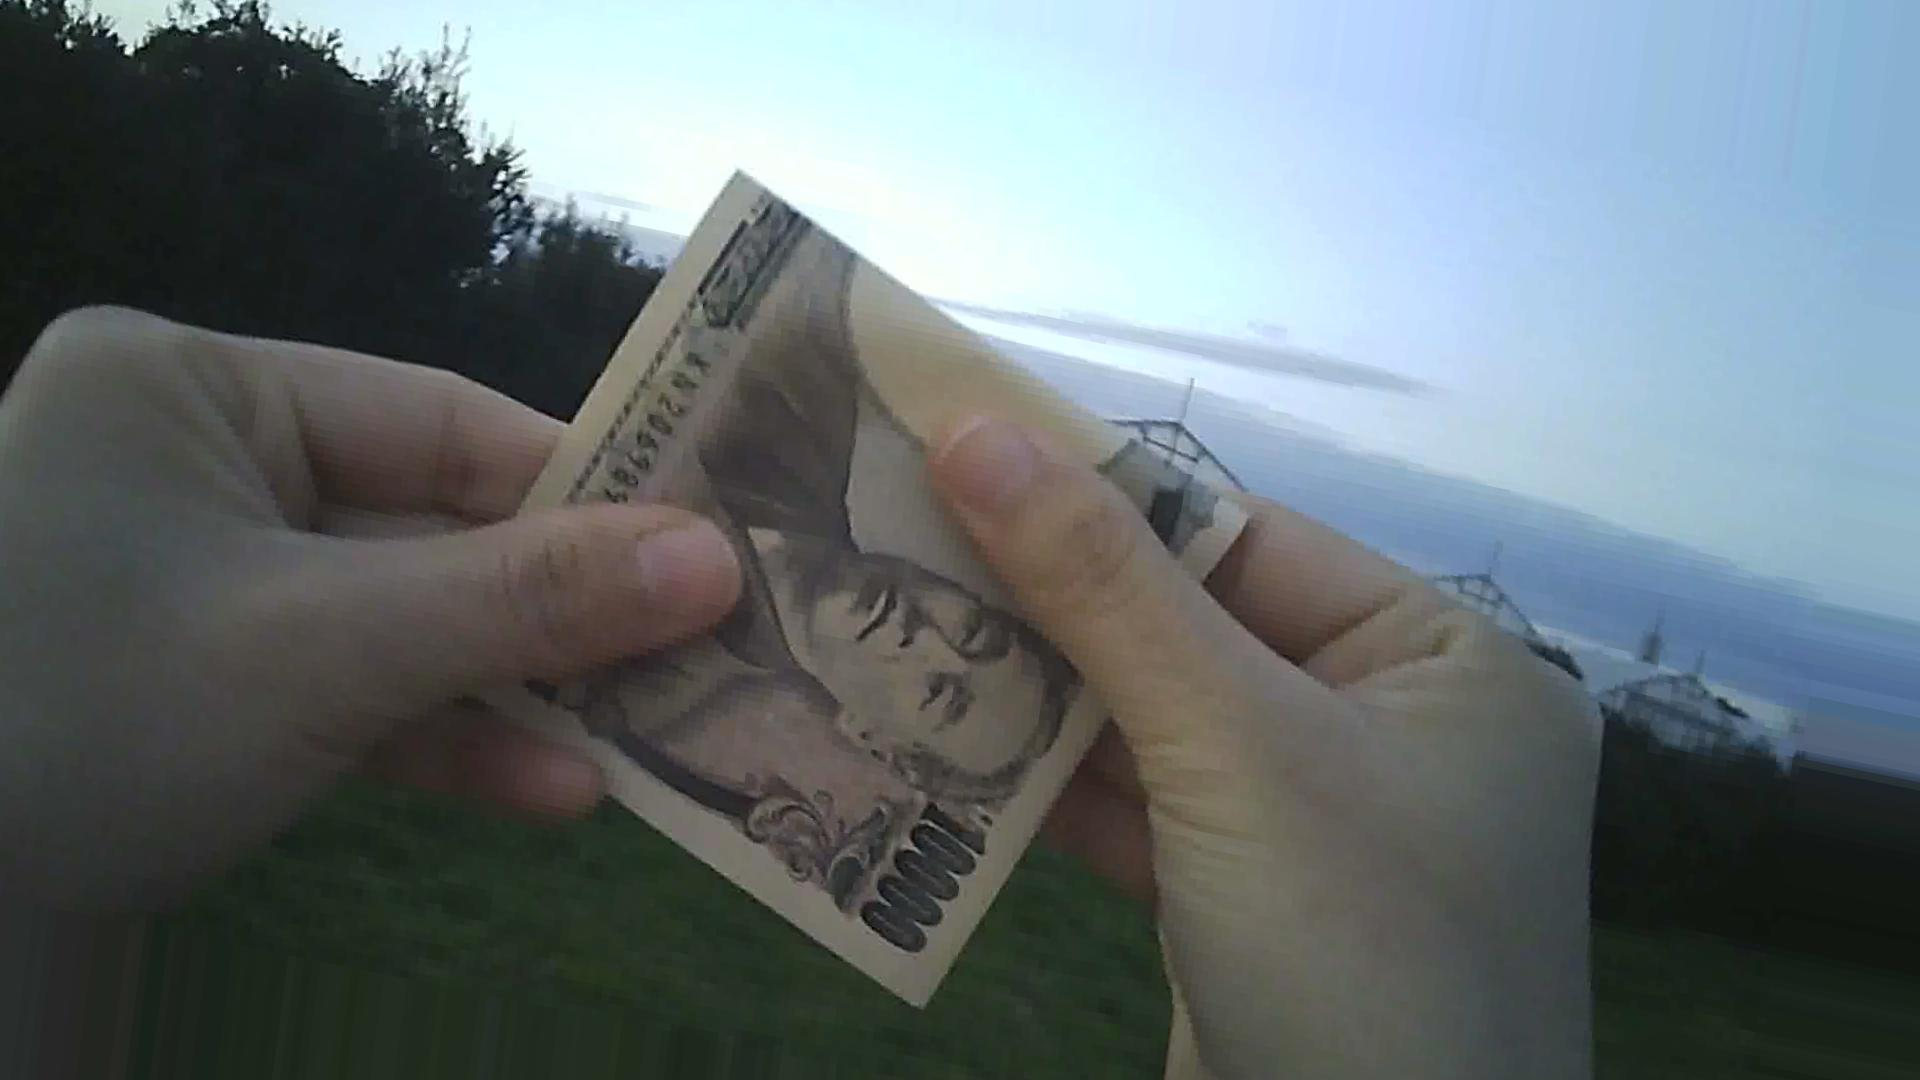10,000 Yen: (418, 175, 1216, 989)
